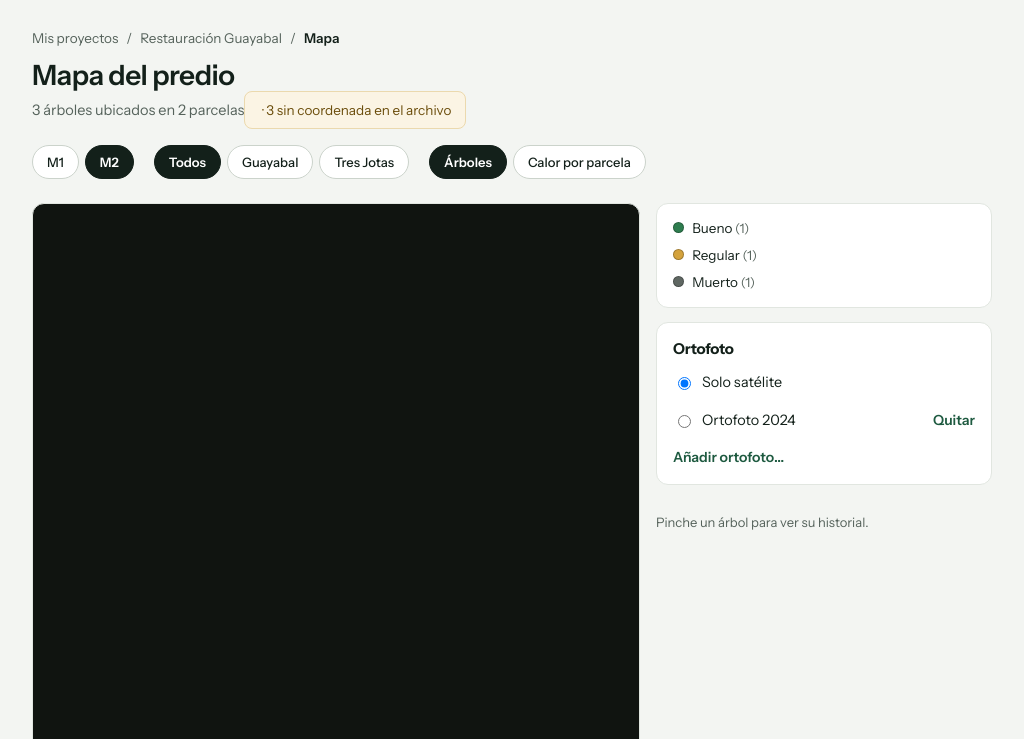
Test: mapa del predio › el formulario explica que la imagen no se sube
The width and height of the screenshot is (1024, 739).
Click the button "Añadir ortofoto…".
click(729, 457)  # box [673, 444, 784, 470]
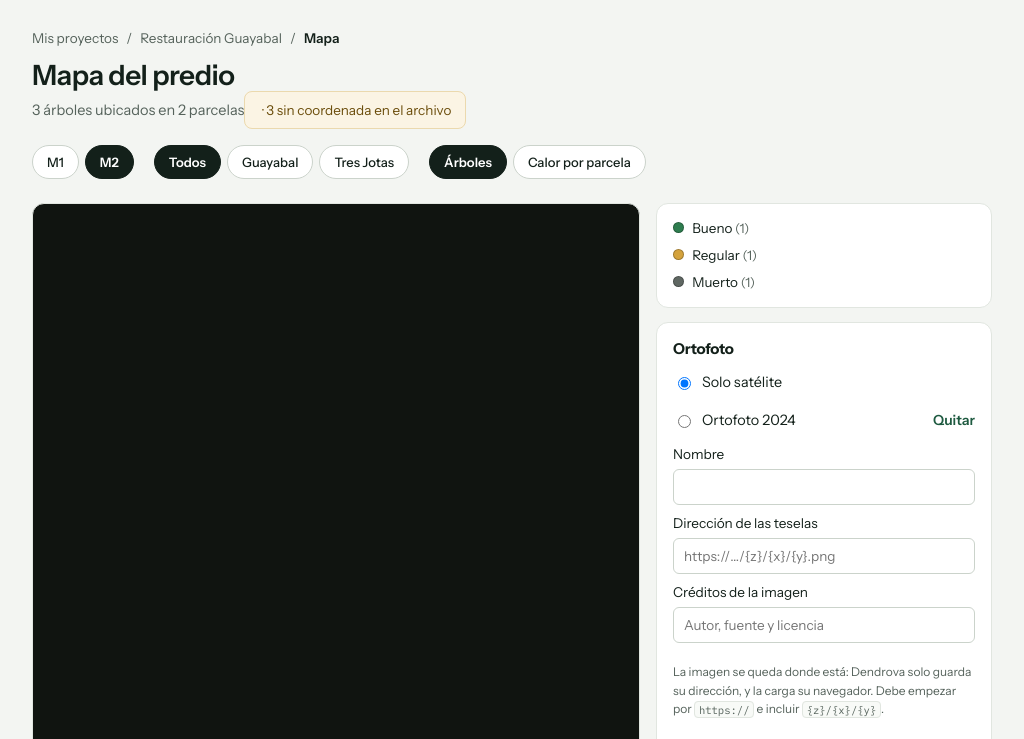
Expected: the field labelled "Dirección de las teselas" is shown, [673, 538, 975, 574]
Expected: the text "solo guarda su dirección" is shown, [673, 664, 971, 716]
